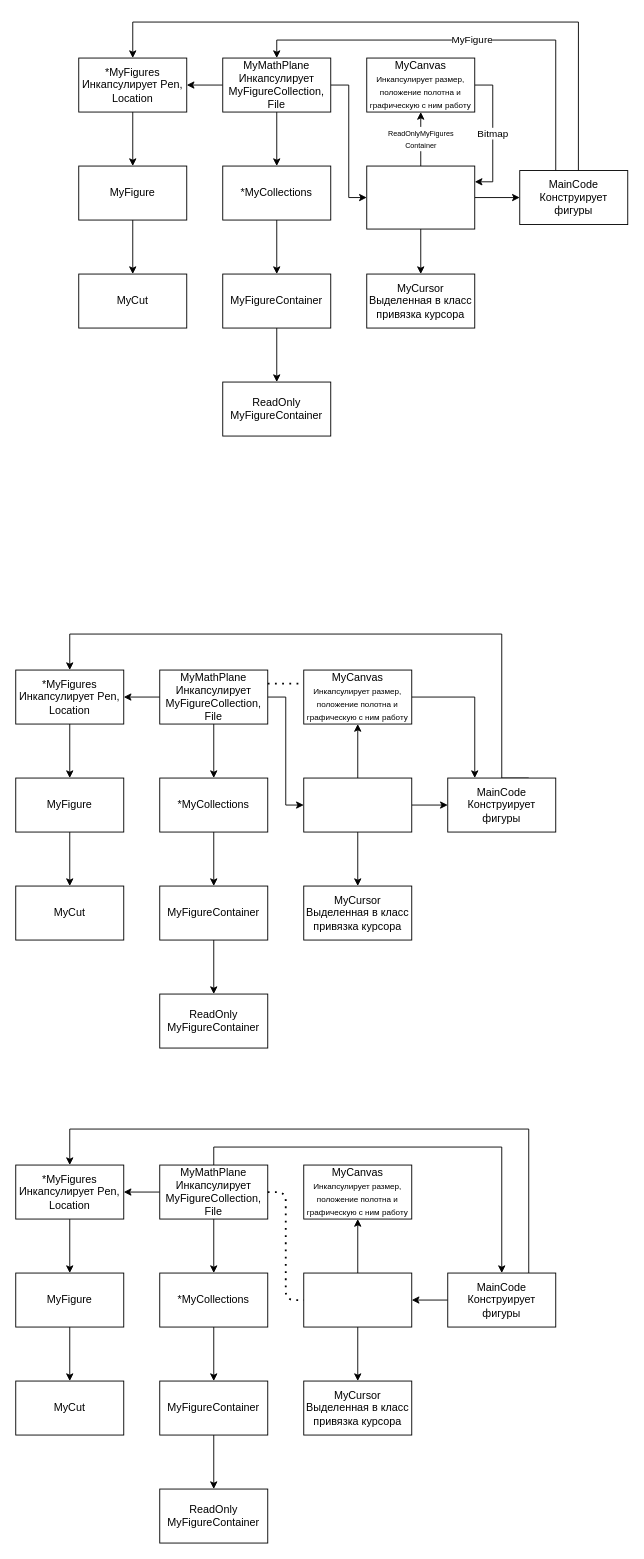
The diagram is 644 pixels wide and 1559 high, and some of its shapes have lost their labels. The shapes that lost their labels are listed below. From the top down, each one's box as (x1, y1, x2, y2) in pixels, then its label:
(366, 165, 475, 229): MainForm Реализует GUI ввод Непосредственное взаимодействие с фигурами плоскости
(303, 777, 412, 832): MainForm Реализует GUI ввод Непосредственное взаимодействие с плоскостью
(303, 1272, 412, 1327): MainForm Реализует GUI ввод
